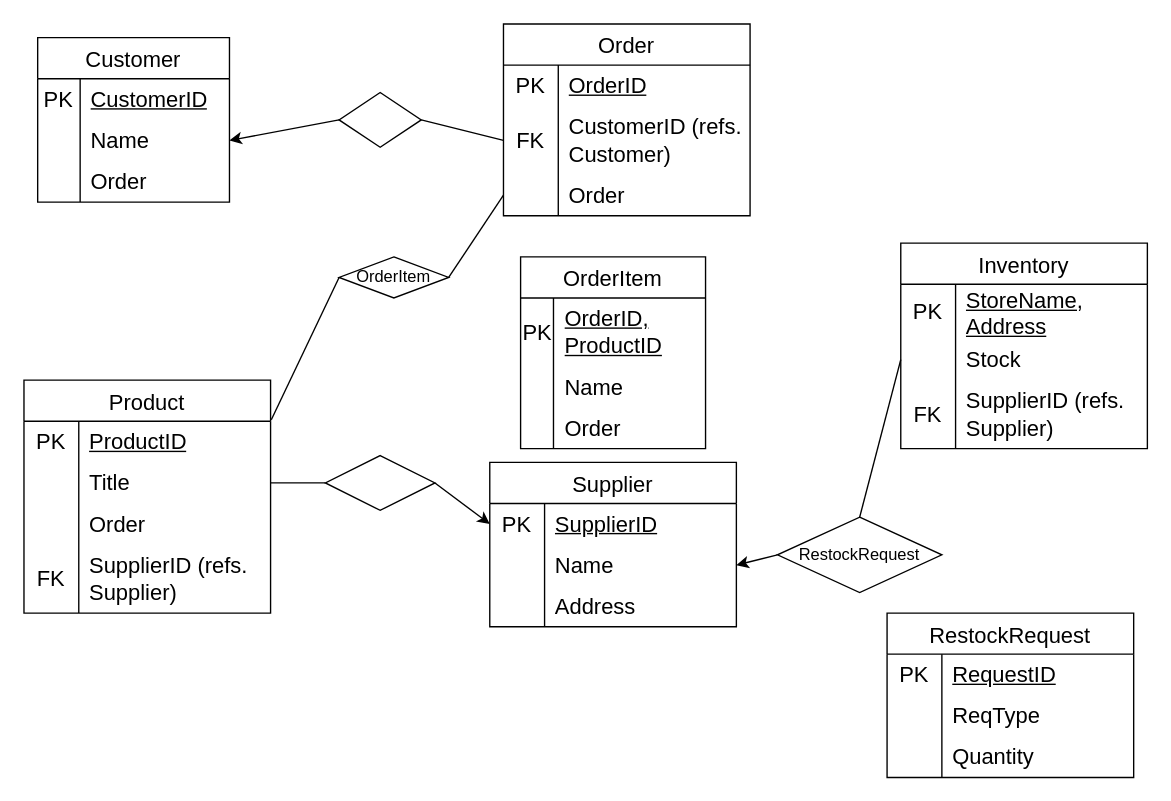
Some shapes in this 1171 by 801 pixel diagram are drawn without their labels. Each missing label, with the centre of its shape:
"places" belongs at (379,119).
"restocks" belongs at (379,482).
